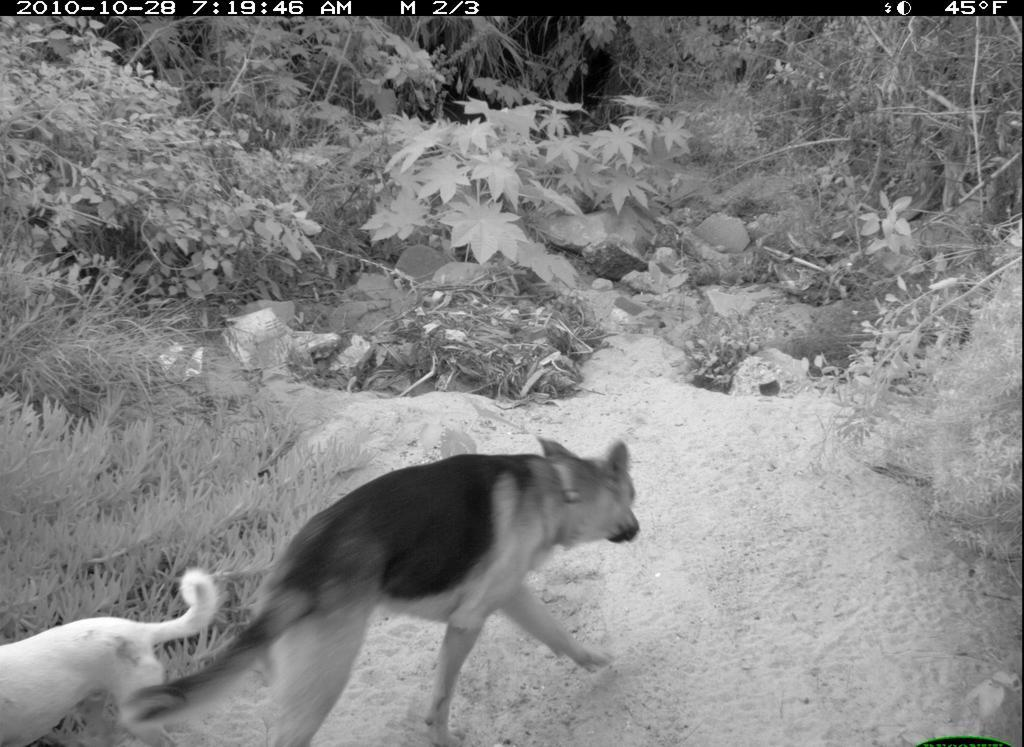dog: (118, 434, 652, 747), (1, 562, 222, 747)
